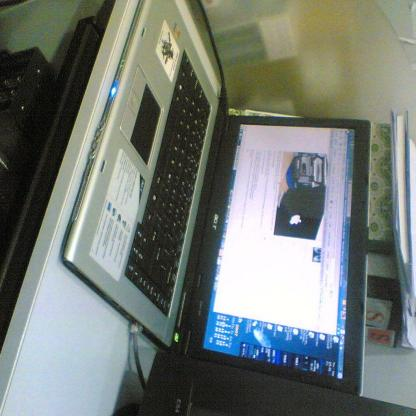board: (62, 0, 372, 398)
